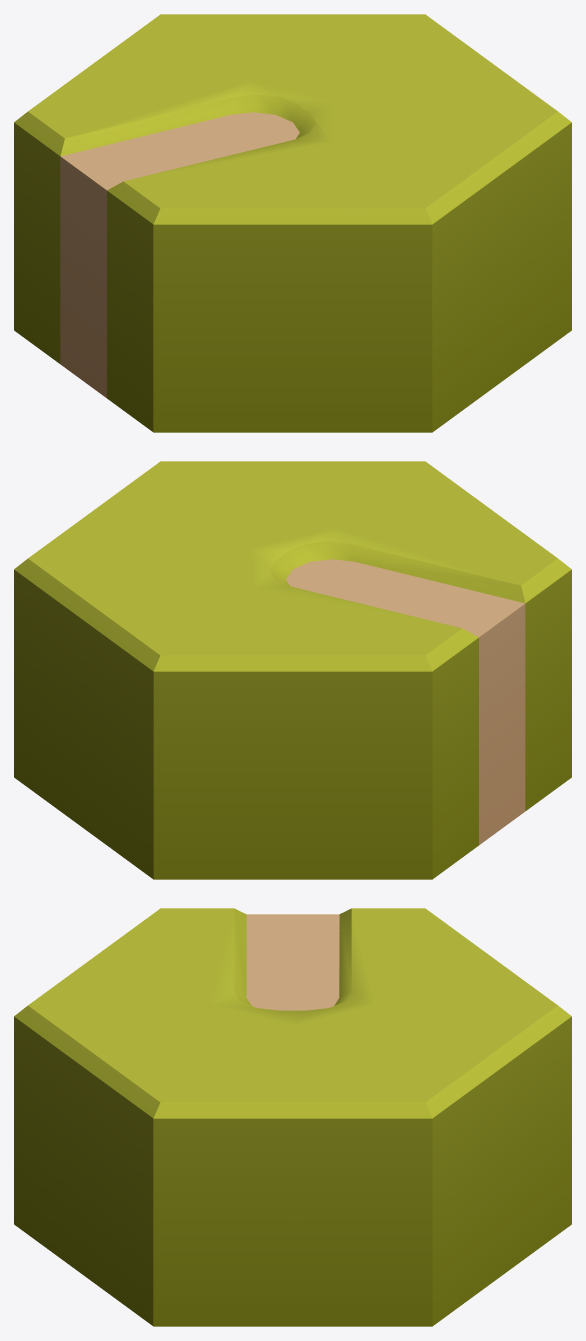
The model's file is hex_road_M.gltf.
3 views of the same model, one above another, from view 1: azimuth 30°, elevation 25°; view 2: azimuth 150°, elevation 25°; view 3: azimuth 270°, elevation 25° (orthographic).
Parts seen in each view (by area): view 1: hex_road_M; view 2: hex_road_M; view 3: hex_road_M.
Part boxes in pixels (x1,y1,x2,y2): hex_road_M: [14, 14, 571, 432]; hex_road_M: [14, 461, 571, 879]; hex_road_M: [14, 908, 571, 1326].
Size of the model in its own units: 2 by 1 by 2.31.
Materials: 1 (1 with a texture image).
